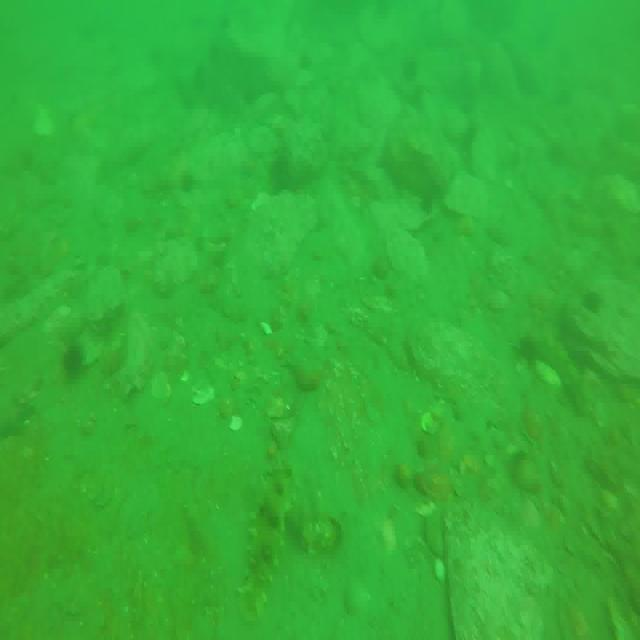echinus: (62, 336, 86, 381)
holothurian: (242, 456, 297, 620), (517, 329, 595, 417)
